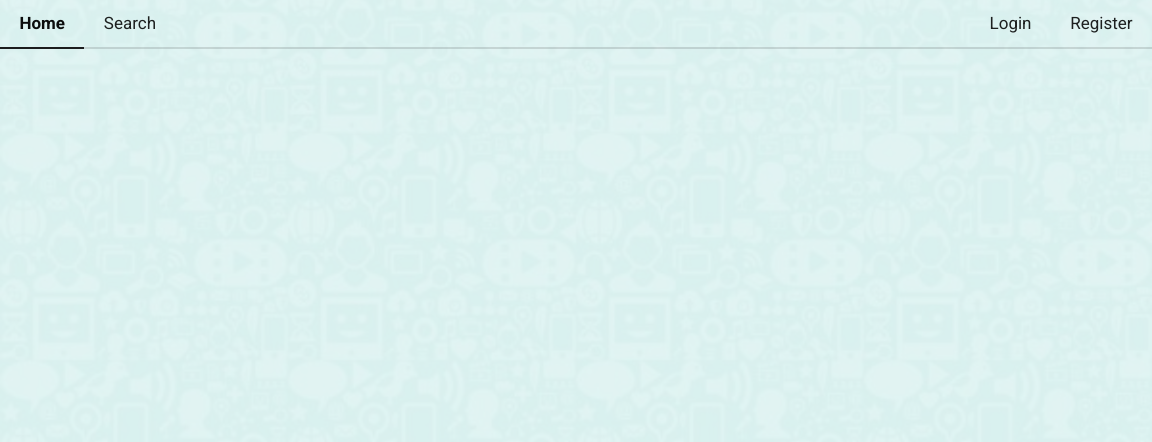
Scenario: Login › Should fail login due to fields being too short in form
Click the link "Login".
click(1011, 23)  # box [990, 13, 1032, 33]
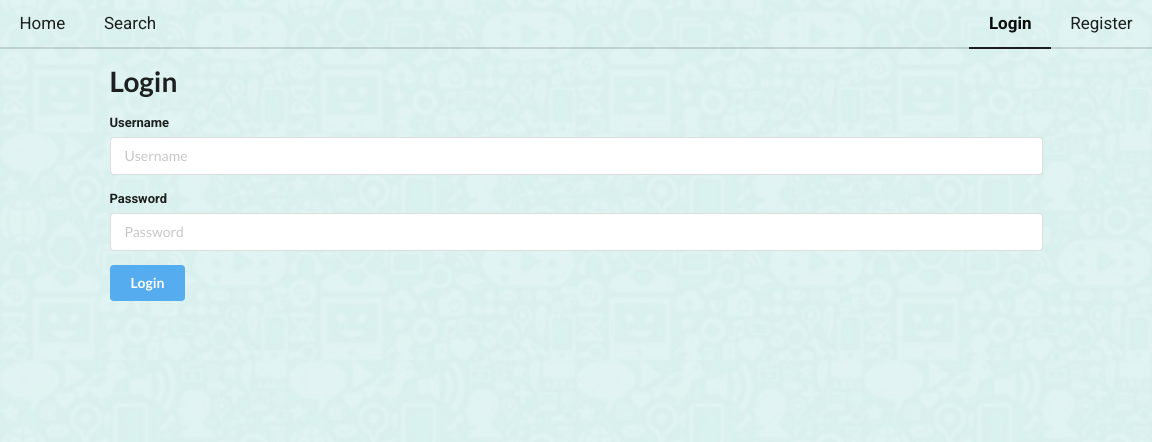
Expected: the link "Login" is shown, [970, 0, 1051, 48]
Type "1234" into the field with placeholder "Username".
click(577, 156); type("1234")  # box [110, 137, 1043, 175]
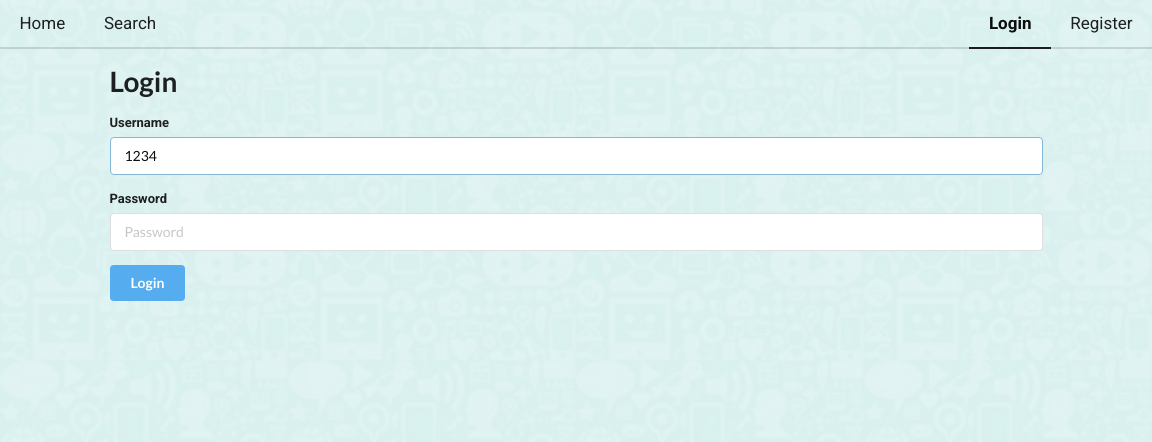
Type "1234" into the password field with placeholder "Password".
click(577, 232); type("1234")  # box [110, 213, 1043, 251]
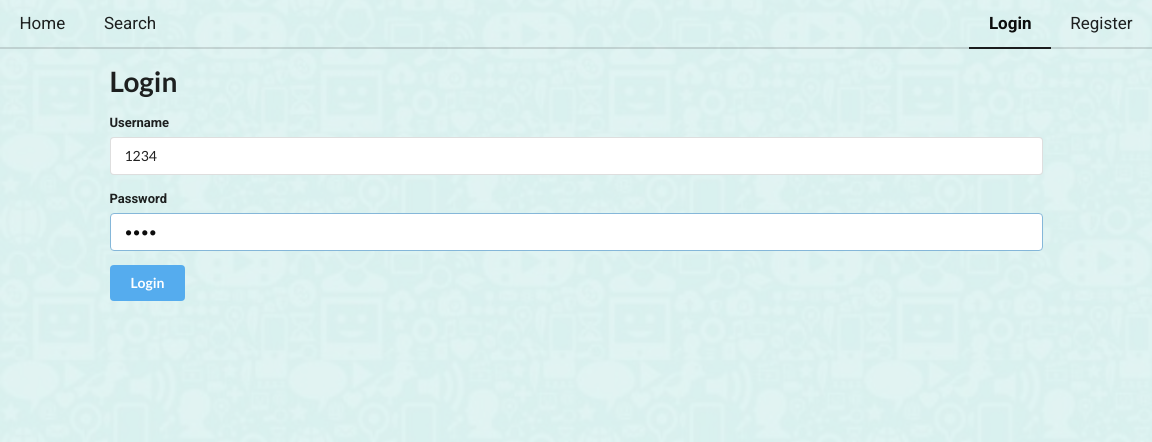
Click the button "Login".
click(148, 283)  # box [110, 265, 186, 301]
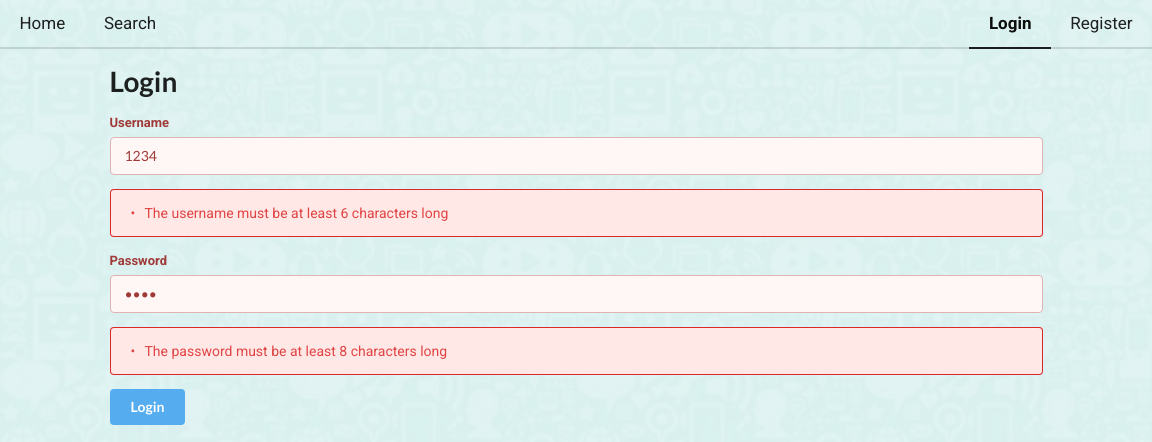
Expected: the list item "The username must be at least 6 characters long" is shown, [144, 205, 448, 221]
Expected: the list item "The password must be at least 8 characters long" is shown, [144, 343, 447, 359]
